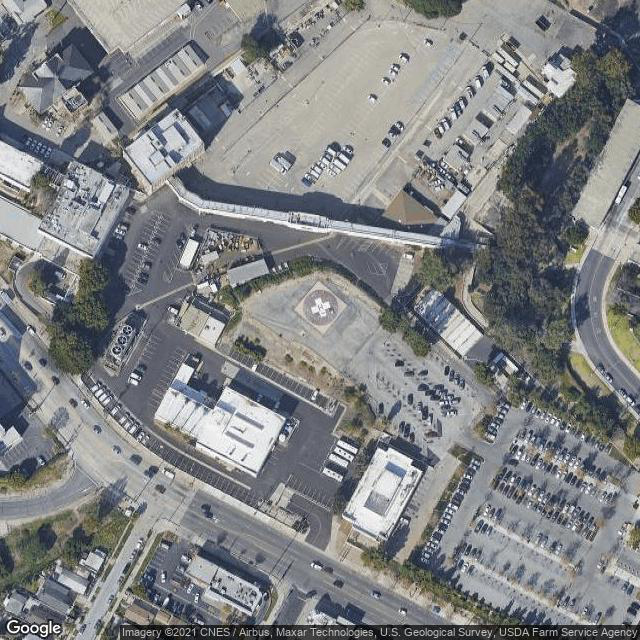Helipad: (303, 288, 341, 328)
